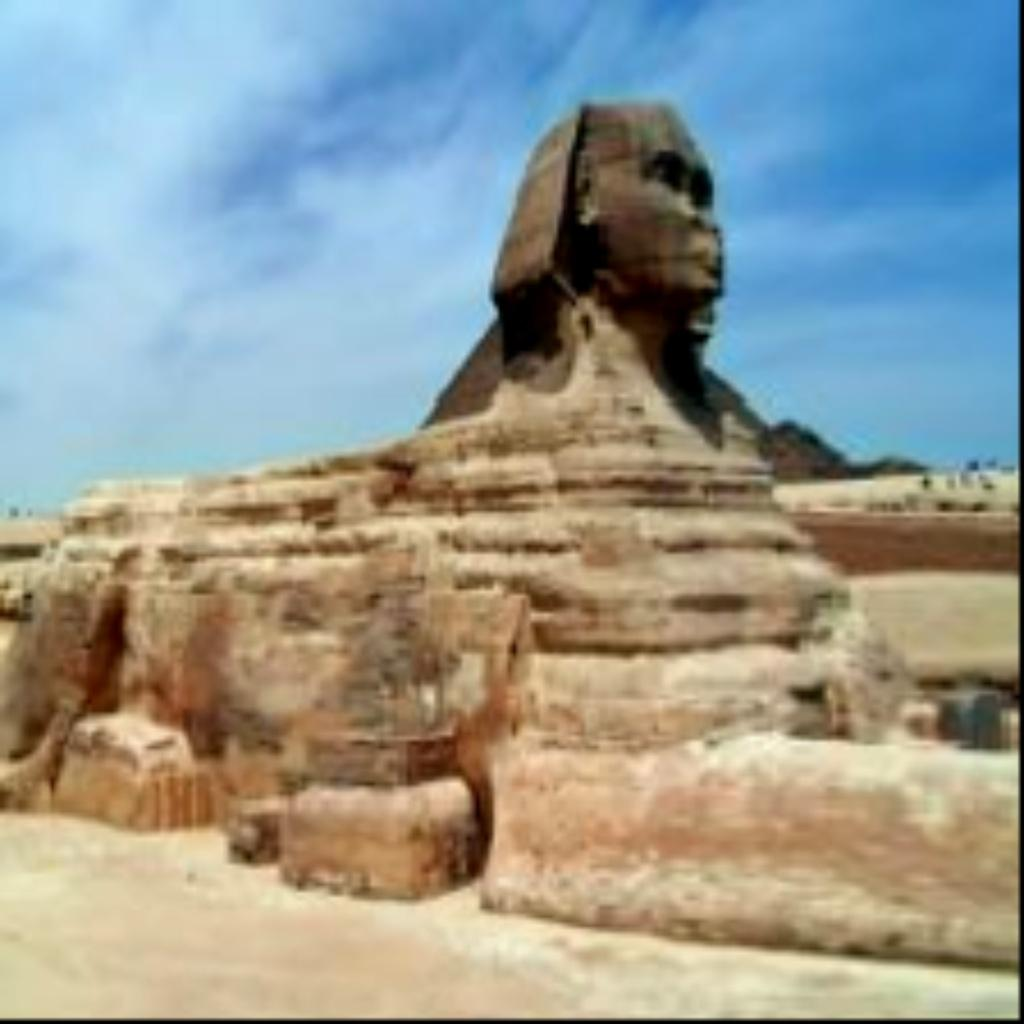Sphinx: (0, 92, 1015, 978)
